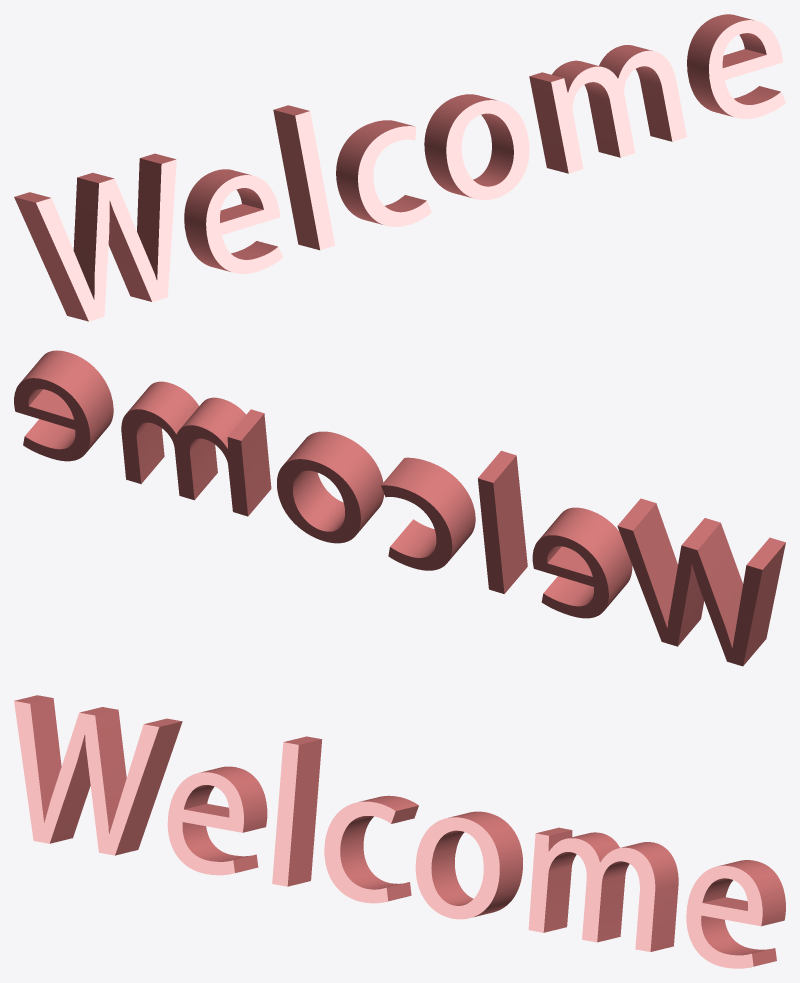
Rendered from welcome3d.glb.
3 renders of one model, top to bottom at view 1: azimuth 30°, elevation 25°; view 2: azimuth 150°, elevation 25°; view 3: azimuth 330°, elevation 25°, orthographic. The views are drawn at different scales.
Parts seen in each view (by area): view 1: Welcome; view 2: Welcome; view 3: Welcome.
Boxes of the visible parts, <box> form: Welcome: <box>14,14,785,321</box>; Welcome: <box>14,350,785,666</box>; Welcome: <box>14,695,785,968</box>.
Size of the model in its own units: 1.29 by 0.2487 by 0.1237.
